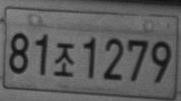1: (79, 37, 100, 78), (32, 33, 51, 75)
2: (102, 37, 124, 79)
7: (126, 38, 148, 82)
8: (8, 31, 29, 74)
9: (150, 40, 172, 84)
조: (53, 42, 75, 77)
